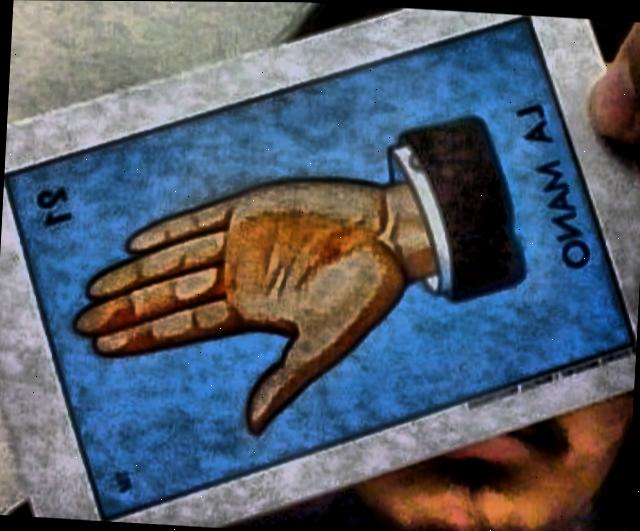La Mano: (9, 20, 633, 518)
